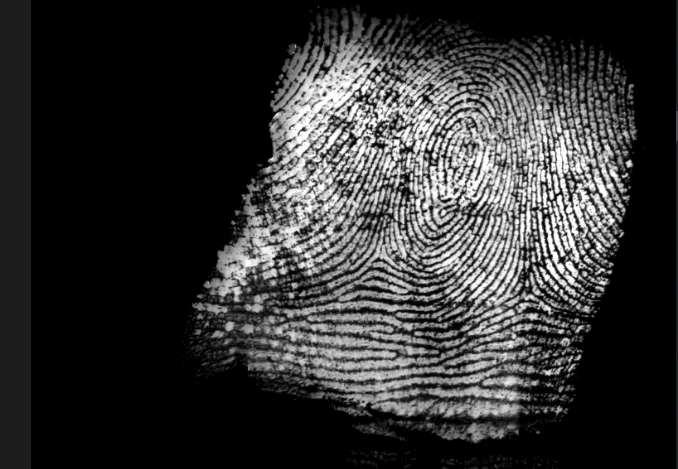deltas: (501, 254, 556, 312), (360, 235, 405, 288)
nucleo: (436, 125, 486, 180)
